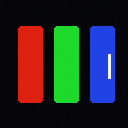4 line_v: (108, 54, 110, 78)
